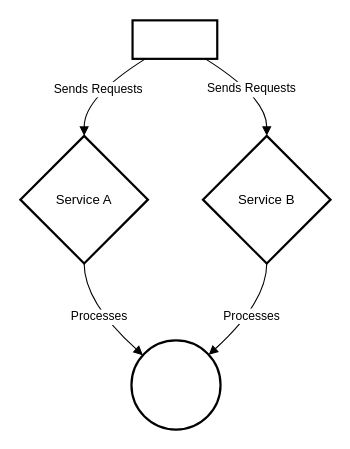
This 350x449 diagram has some shape labels left out. Here are the shapes that lost their labels. From the top down, the box of each, then its label:
(131, 19, 218, 59): Gateway
(130, 339, 221, 430): Database
